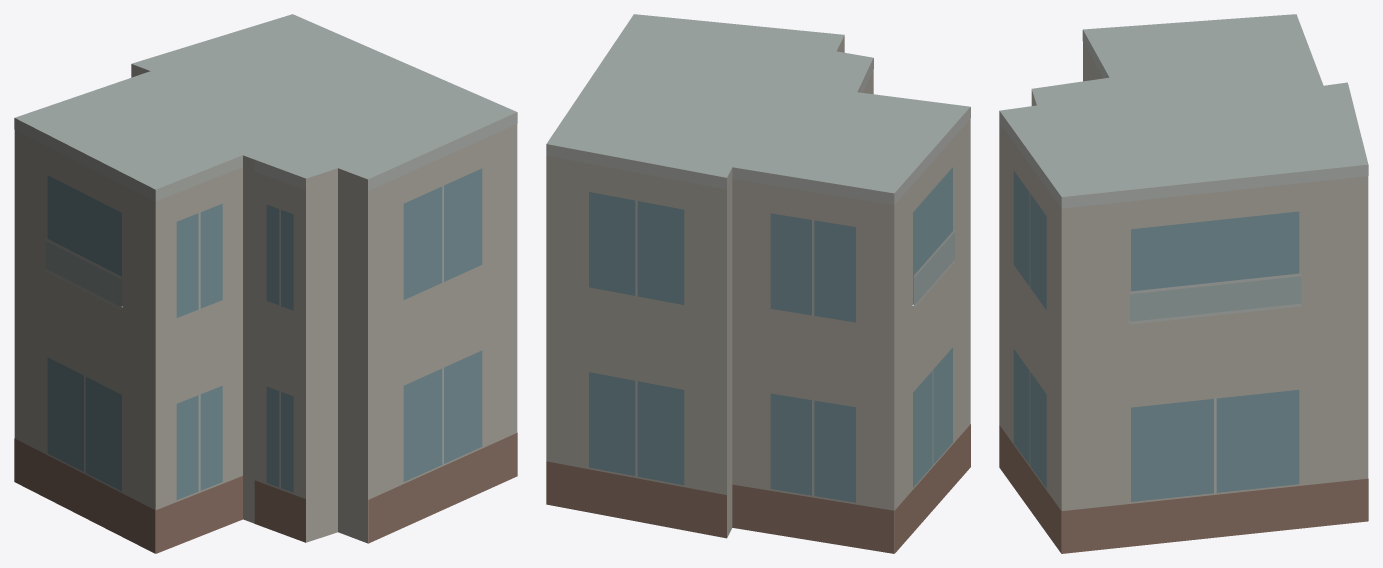
File: survey-upis-32516476.glb
3 views of the same model, side by side, from view 1: azimuth 30°, elevation 25°; view 2: azimuth 150°, elevation 25°; view 3: azimuth 270°, elevation 25° (orthographic). The views are drawn at different scales.
Parts seen in each view (by area): view 1: survey-upis-32516476.tmp; view 2: survey-upis-32516476.tmp; view 3: survey-upis-32516476.tmp.
Boxes of the visible parts, left/top/right/bottom form: survey-upis-32516476.tmp: left=14, top=14, right=517, bottom=553; survey-upis-32516476.tmp: left=546, top=14, right=970, bottom=553; survey-upis-32516476.tmp: left=999, top=14, right=1368, bottom=553.
Size of the model in its own units: 8.38 by 7.6 by 7.14.
